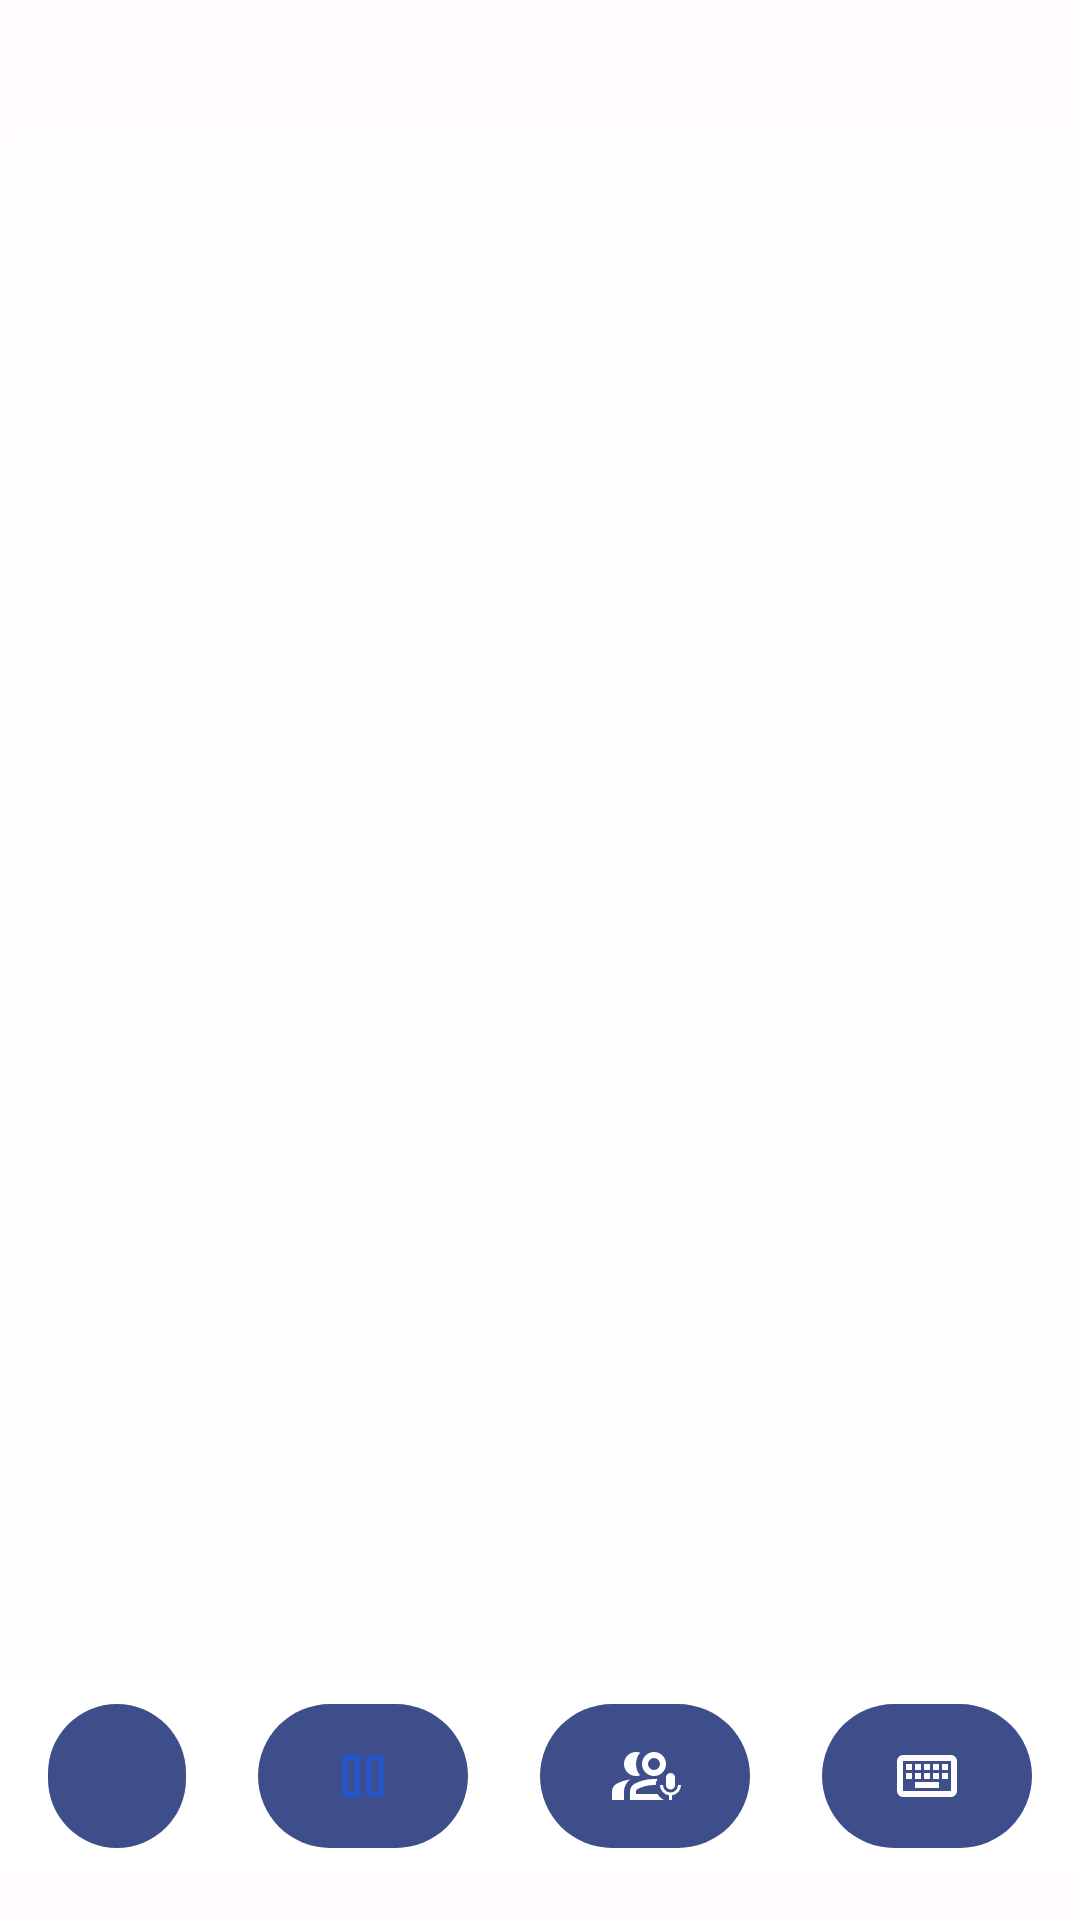

Screen size 1080x1920. Icon name, then its center in pixels as point (x, y):
keyboard icon: point (927, 1776)
pause icon: point (363, 1776)
speeach: point (645, 1776)
